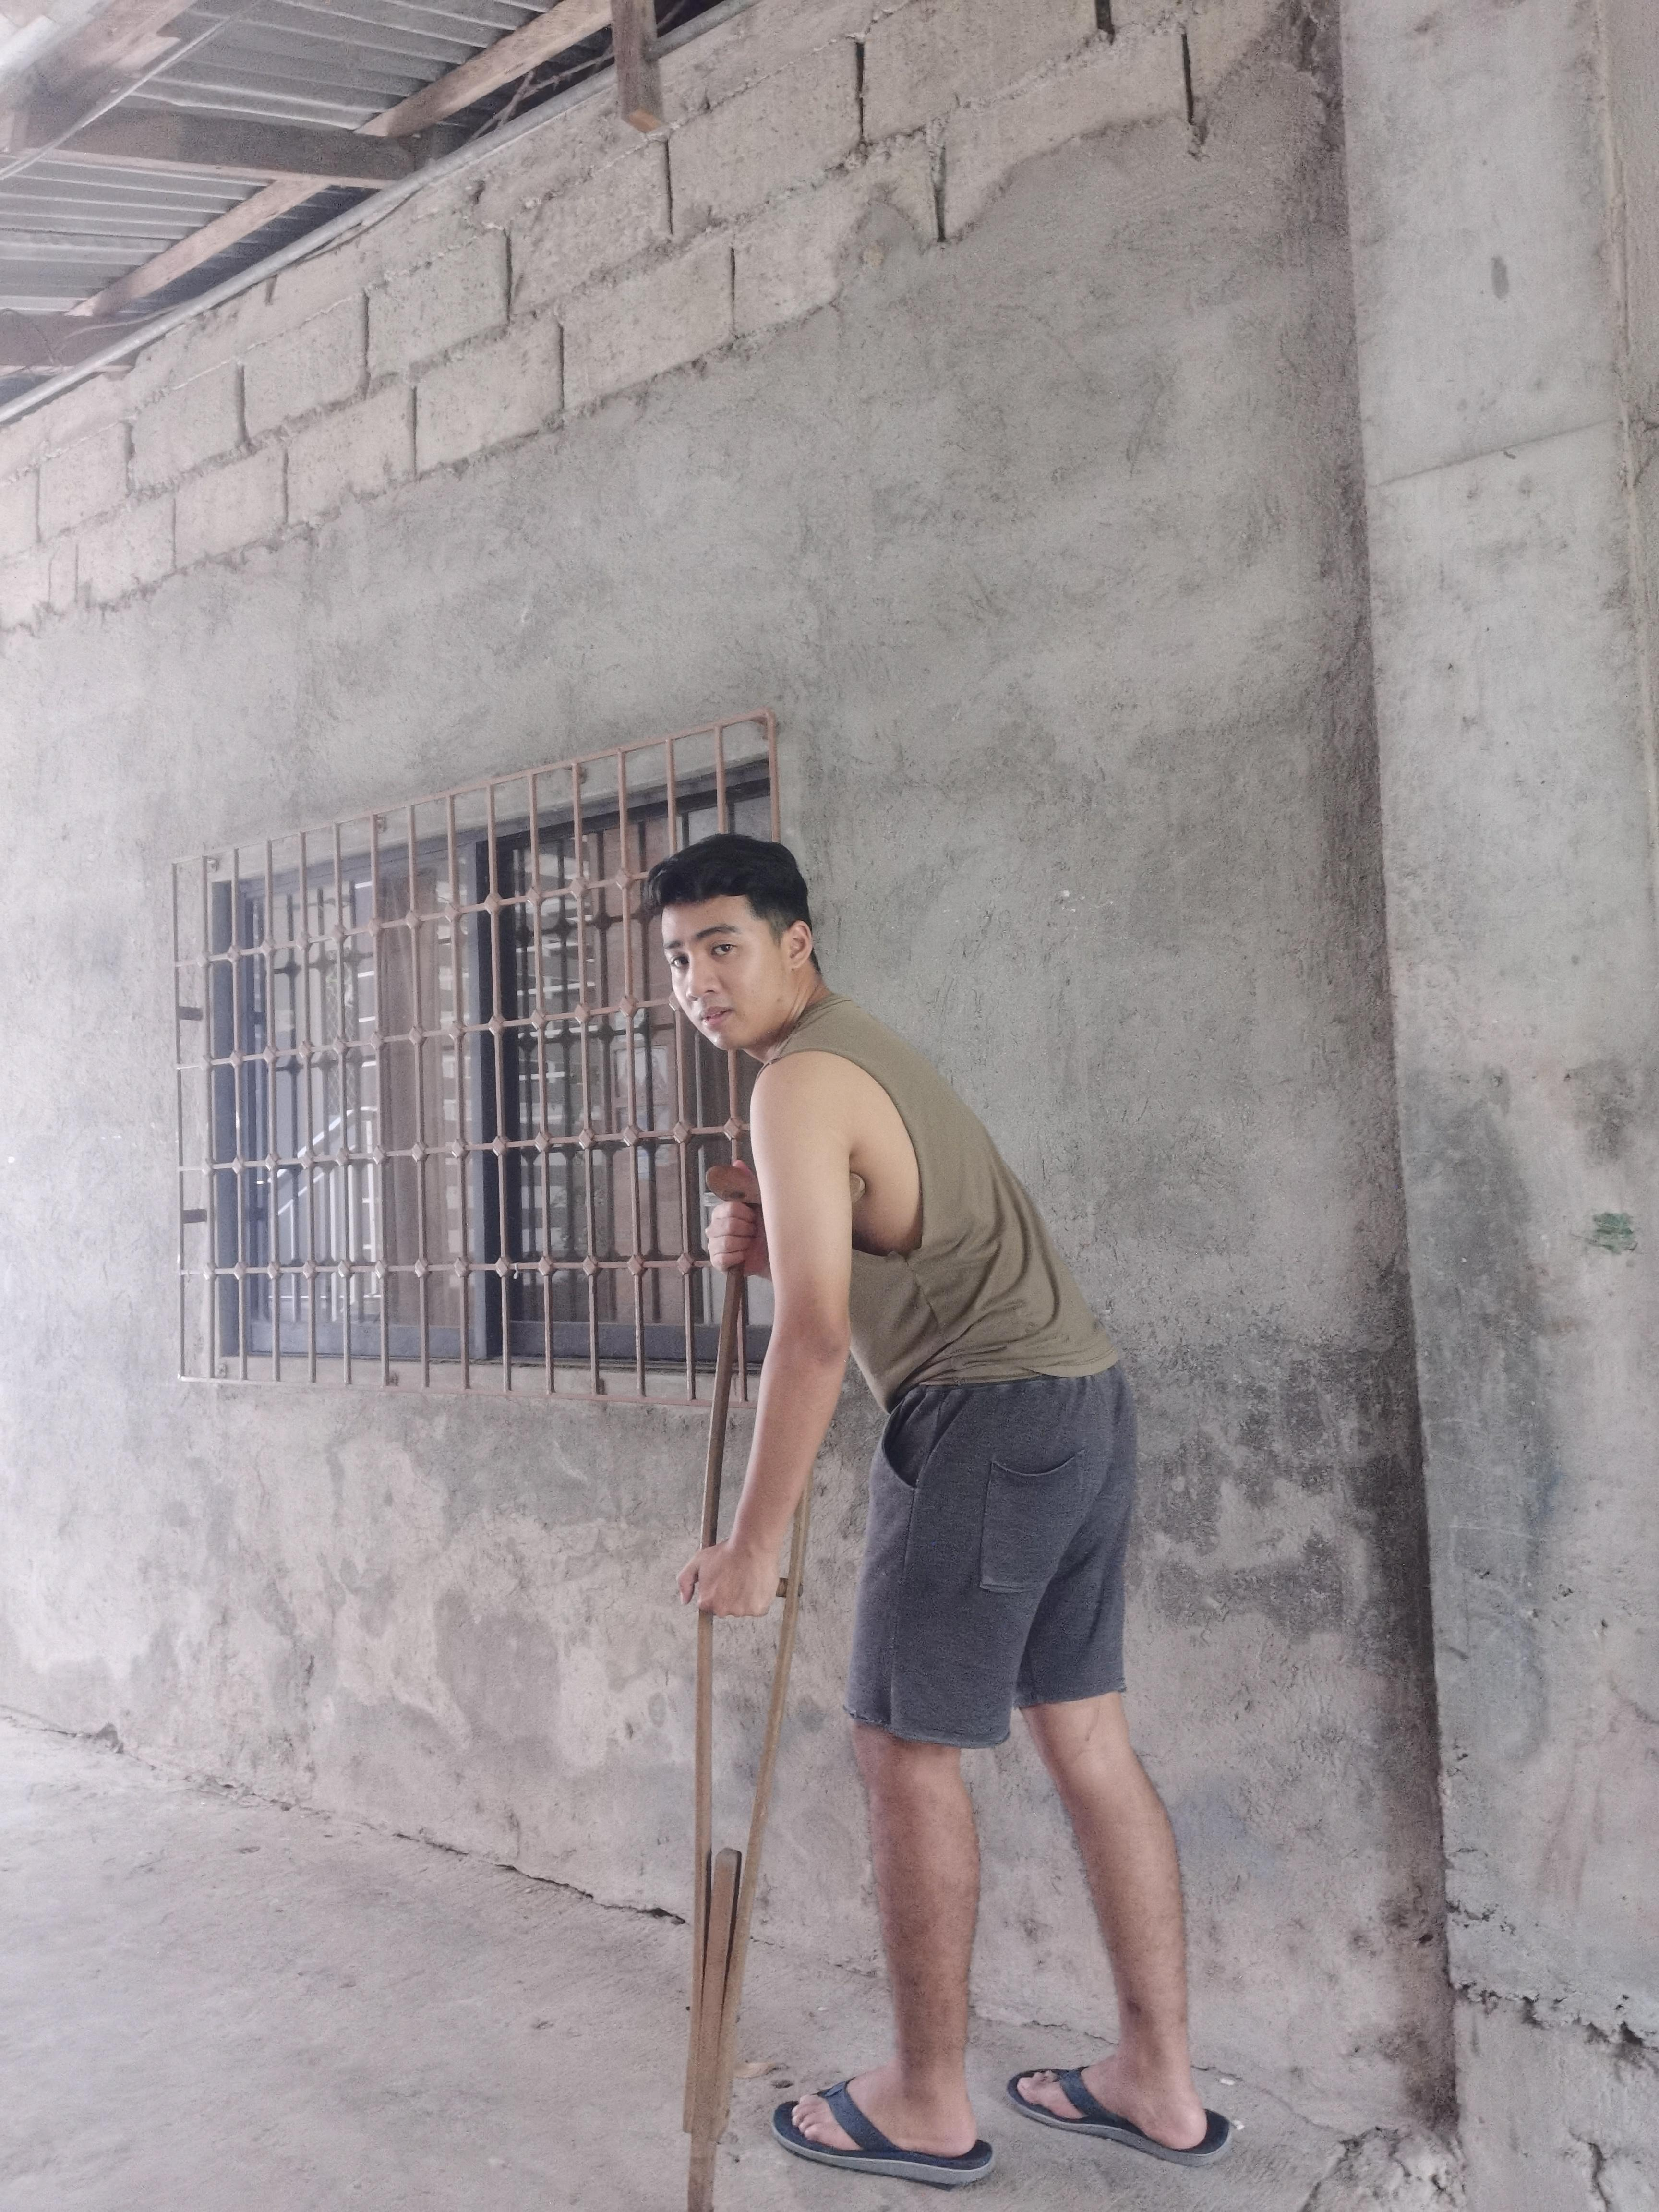crutches: (648, 838, 1239, 2210)
